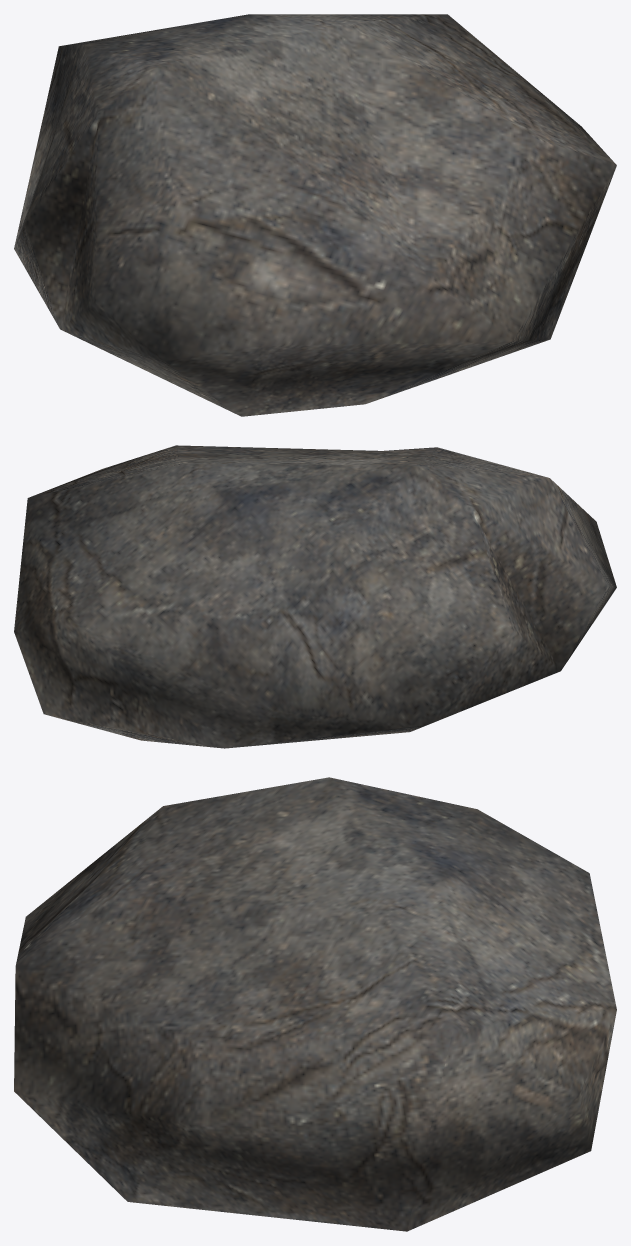
File: RockSm1_1_LOD1.fbx
3 renders of one model, top to bottom at view 1: azimuth 30°, elevation 25°; view 2: azimuth 150°, elevation 25°; view 3: azimuth 270°, elevation 25°, orthographic. The views are drawn at different scales.
Parts seen in each view (by area): view 1: polySurface220; view 2: polySurface220; view 3: polySurface220.
Part boxes in pixels (x1,y1,x2,y2): polySurface220: (14,14,616,416); polySurface220: (14,445,616,748); polySurface220: (14,777,616,1231).
Size of the model in its own units: 95.18 by 47.26 by 90.49.
